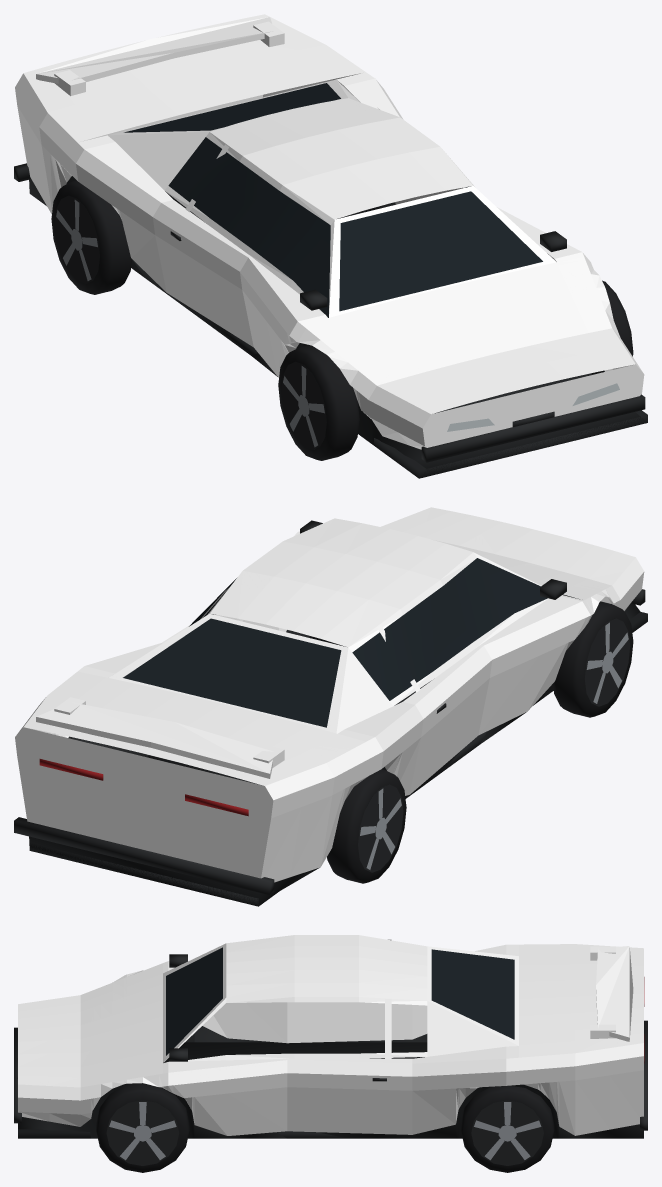
File: tridella_martelo.glb
3 renders of one model, top to bottom at view 1: azimuth 30°, elevation 25°; view 2: azimuth 150°, elevation 25°; view 3: azimuth 270°, elevation 25°, orthographic. The views are drawn at different scales.
Parts seen in each view (by area): view 1: Body_Paint, Body_Details, Mount_FrontLeft_Wheel_Details, Mount_RearLeft_Wheel_Details, Mount_FrontRight_Wheel_Details; view 2: Body_Paint, Body_Details, Mount_RearLeft_Wheel_Details, Mount_FrontLeft_Wheel_Details; view 3: Body_Paint, Body_Details, Mount_FrontRight_Wheel_Details, Mount_RearRight_Wheel_Details.
Part boxes in pixels (left/top/right/bottom): Body_Paint: left=15, top=14, right=644, bottom=449; Body_Details: left=14, top=83, right=647, bottom=478; Mount_FrontLeft_Wheel_Details: left=278, top=345, right=359, bottom=460; Mount_RearLeft_Wheel_Details: left=51, top=180, right=131, bottom=294; Mount_FrontRight_Wheel_Details: left=602, top=280, right=633, bottom=356; Body_Paint: left=15, top=507, right=644, bottom=882; Body_Details: left=14, top=520, right=647, bottom=906; Mount_RearLeft_Wheel_Details: left=327, top=769, right=406, bottom=883; Mount_FrontLeft_Wheel_Details: left=553, top=601, right=633, bottom=717; Body_Paint: left=18, top=935, right=643, bottom=1135; Body_Details: left=14, top=947, right=647, bottom=1138; Mount_FrontRight_Wheel_Details: left=96, top=1083, right=189, bottom=1172; Mount_RearRight_Wheel_Details: left=461, top=1085, right=554, bottom=1172.
Bounding box in the file's own units: 1.99 × 1.17 × 4.41.
2 materials, 1 textured.
